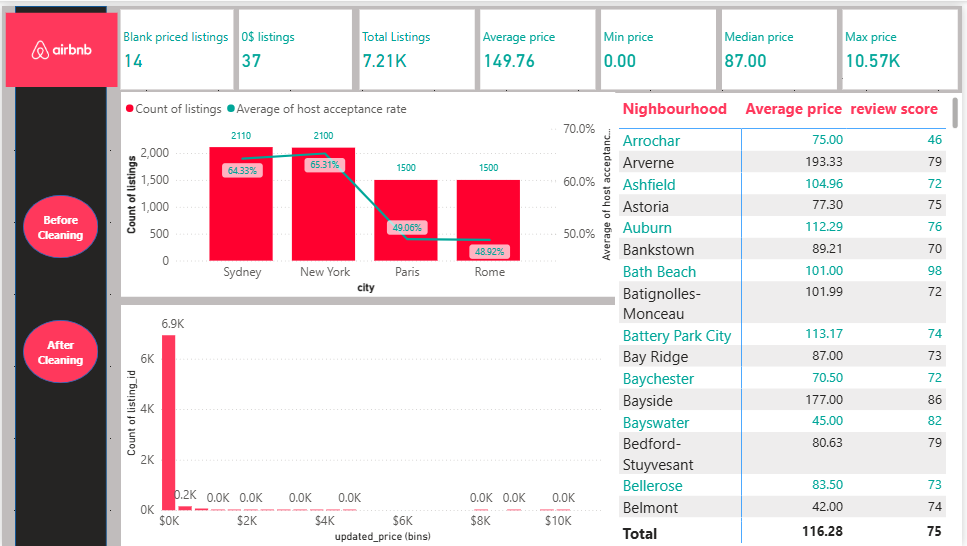

What the dashboard file says about the page in this screenshot:
{"tool":"powerbi","page":{"name":"missing","canvas":[1280,720],"ordinal":0},"visuals":[{"type":"lineStackedColumnComboChart","fields":{"Category":["airbnb.city"],"Y":["Count(airbnb.listing_id)"],"Y2":["Avg(airbnb.host_acceptance_rate)"]},"box":[158.3,114.5,658.5,272.8],"z":1000},{"type":"shape","box":[17.5,0,122.2,721.5],"z":2000},{"type":"shape","box":[27.6,418.9,100.4,84.4],"z":3000},{"type":"image","box":[0,0,158.5,116.4],"z":4000},{"type":"clusteredColumnChart","title":"price histo on updated","fields":{"Category":["airbnb.updated_price (bins)"],"Y":["Count(airbnb.listing_id)"]},"box":[158.3,399.2,658.5,321.7],"z":5000},{"type":"shape","box":[27.6,251.6,100.4,84.4],"z":6000},{"type":"cardVisual","fields":{"Data":["_measures.Total Listings","Avg(airbnb.price)","Min(airbnb.price)","Median(airbnb.price)","Max(airbnb.price)"]},"box":[471.6,0,808.4,116.2],"z":7000},{"type":"cardVisual","title":"price before","fields":{"Data":["_measures.Blank priced listings","_measures.0$ listings"]},"box":[153.3,0,318.3,116.2],"z":8000},{"type":"pivotTable","fields":{"Rows":["airbnb.neighbourhood"],"Values":["Avg(airbnb.New_price)","Avg(airbnb.review_scores_rating)"]},"box":[816.8,116.2,463.2,604.6],"z":10000}]}

Visuals, with their boxes in screenshot pixels (x1, y1, x2, y2), scaled from the page's 1280x720 canvas onto the 967x546 screenshot:
lineStackedColumnComboChart - airbnb.city x Count(airbnb.listing_id): x1=120, y1=87, x2=617, y2=294
shape: x1=13, y1=0, x2=106, y2=545
shape: x1=21, y1=318, x2=97, y2=382
image: x1=0, y1=0, x2=120, y2=88
"price histo on updated" clusteredColumnChart: x1=120, y1=303, x2=617, y2=545
shape: x1=21, y1=191, x2=97, y2=255
cardVisual - _measures.Total Listings x Avg(airbnb.price): x1=356, y1=0, x2=966, y2=88
"price before" cardVisual: x1=116, y1=0, x2=356, y2=88
pivotTable - airbnb.neighbourhood x Avg(airbnb.New_price): x1=617, y1=88, x2=966, y2=545
